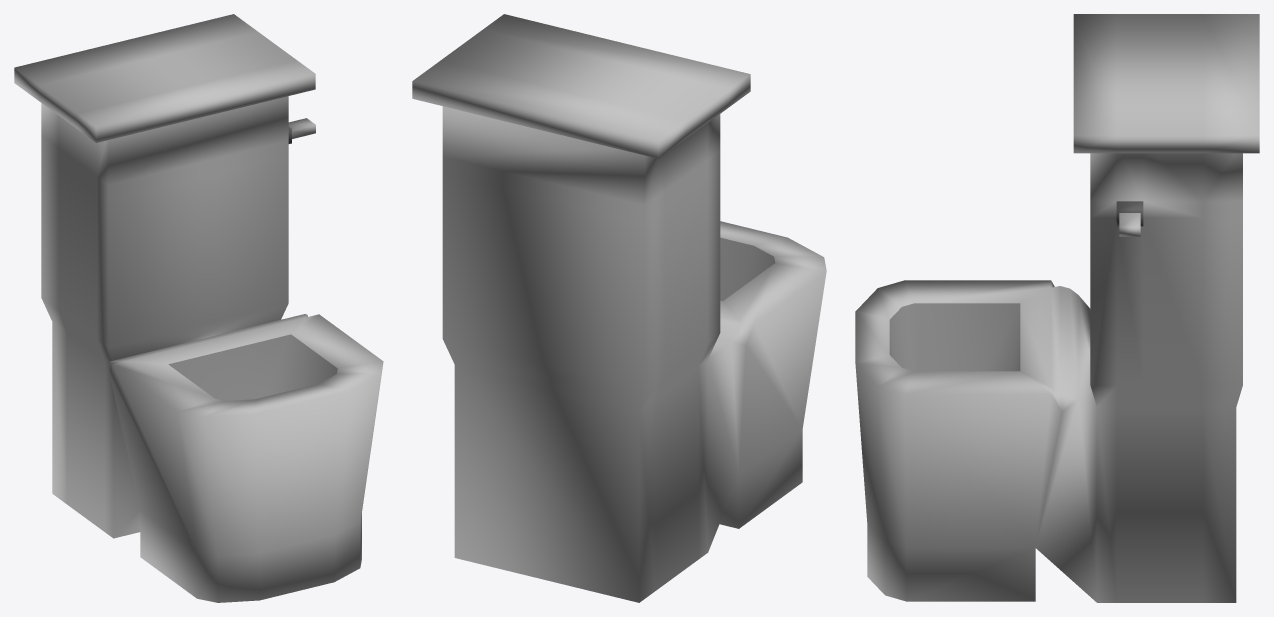
Rendered from Toilet.fbx.
The picture shows the model from 3 angles, left to right: view 1: azimuth 30°, elevation 25°; view 2: azimuth 150°, elevation 25°; view 3: azimuth 270°, elevation 25°; orthographic projection. The views are drawn at different scales.
Visible parts, largest first — view 1: Toilet; view 2: Toilet; view 3: Toilet.
Boxes of the visible parts, x1,y1,x2,y2 form: Toilet: (14,14,383,602); Toilet: (412,14,826,602); Toilet: (855,14,1259,602).
Size of the model in its own units: 101 by 170 by 129.
